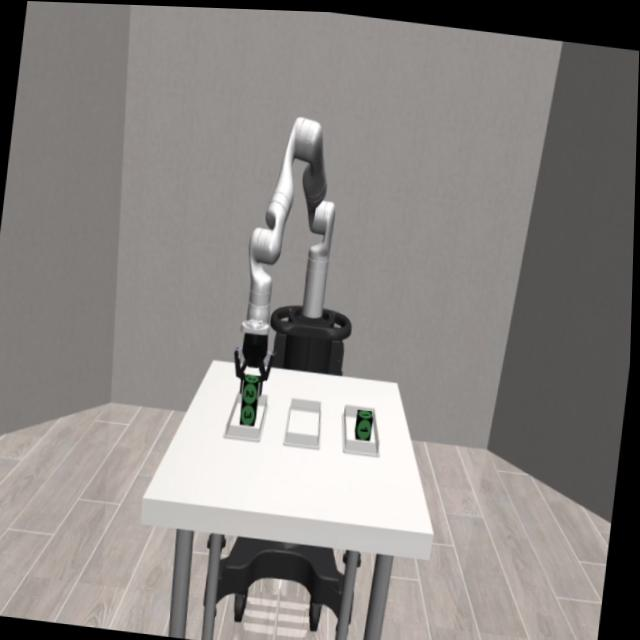cube1: (357, 405, 377, 437)
cube2: (243, 371, 261, 402)
cube3: (242, 399, 260, 424)
